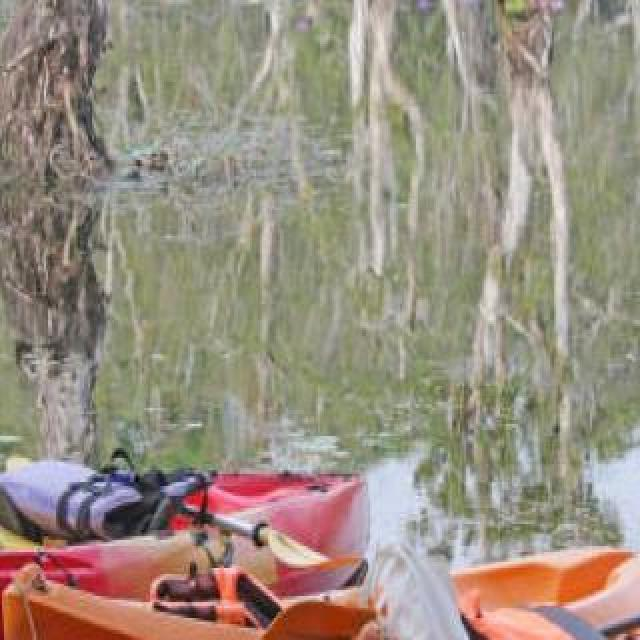kayak: (165, 471, 366, 596), (2, 568, 266, 640)
